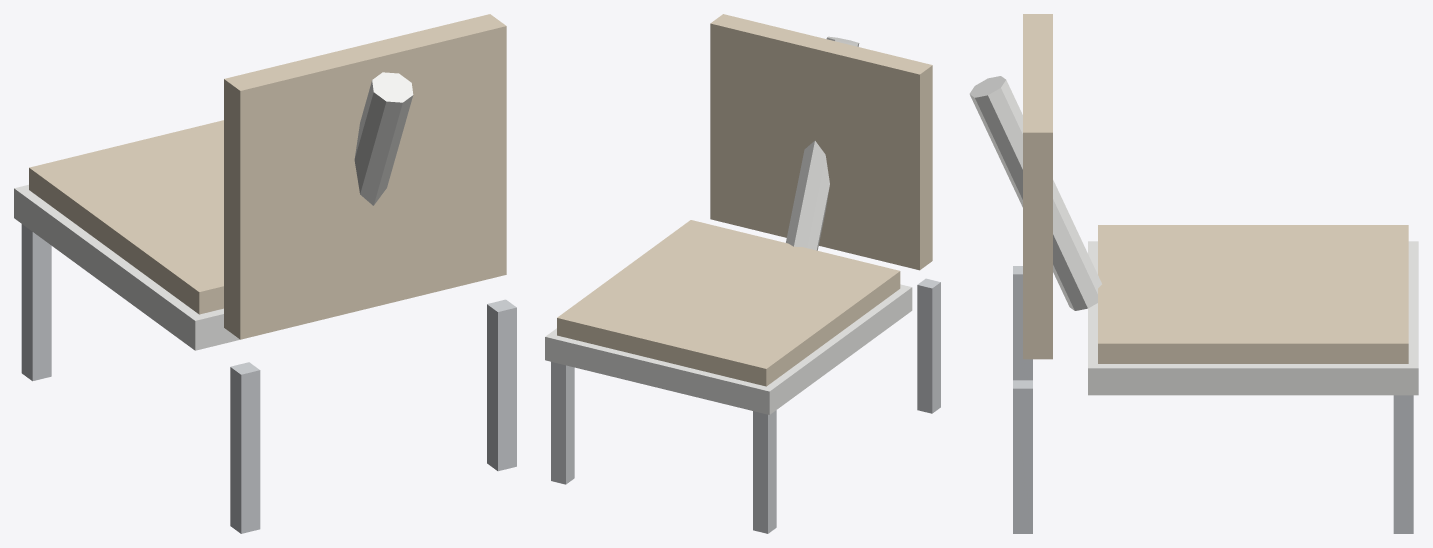
File: sunbed.glb
3 views of the same model, side by side, from view 1: azimuth 30°, elevation 25°; view 2: azimuth 150°, elevation 25°; view 3: azimuth 270°, elevation 25° (orthographic). The views are drawn at different scales.
Parts seen in each view (by area): view 1: sunbed; view 2: sunbed; view 3: sunbed.
Boxes of the visible parts, box(x1,y1,x2,y2) form: sunbed: box(14, 14, 516, 533); sunbed: box(545, 14, 940, 533); sunbed: box(969, 14, 1418, 533).
Size of the model in its own units: 0.6 by 0.88 by 0.8968.
